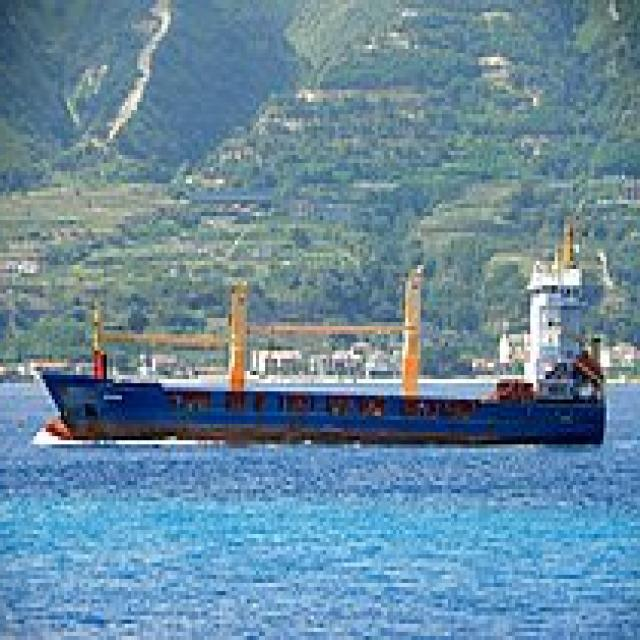Cargo: (36, 208, 610, 444)
